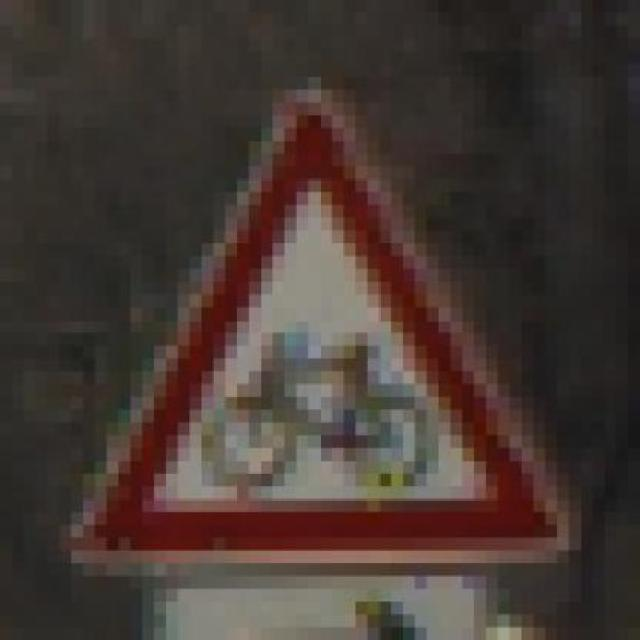CYCLE ROUTE AHEAD WARNING: (59, 64, 581, 576)
